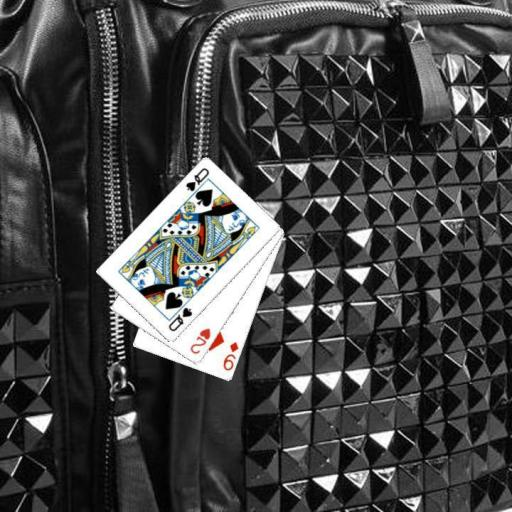card-corner: (165, 304, 193, 333), (187, 325, 212, 356), (183, 165, 210, 193), (220, 339, 240, 373)
